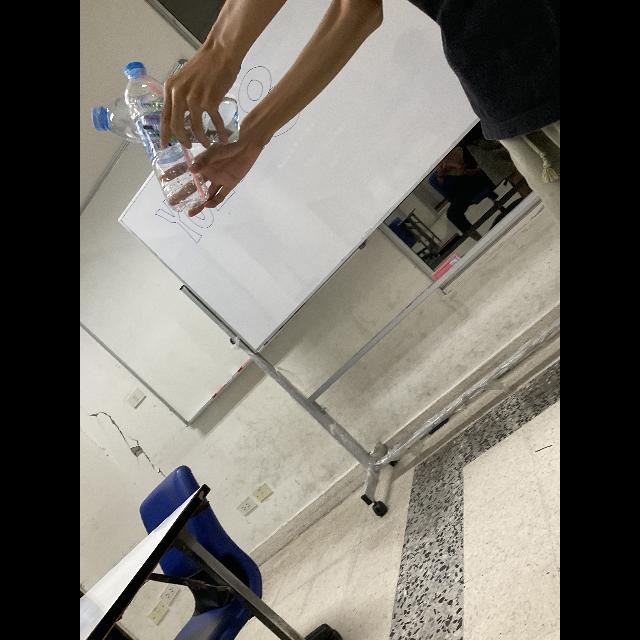plastic_bottle: (124, 61, 210, 213), (92, 94, 242, 146)
